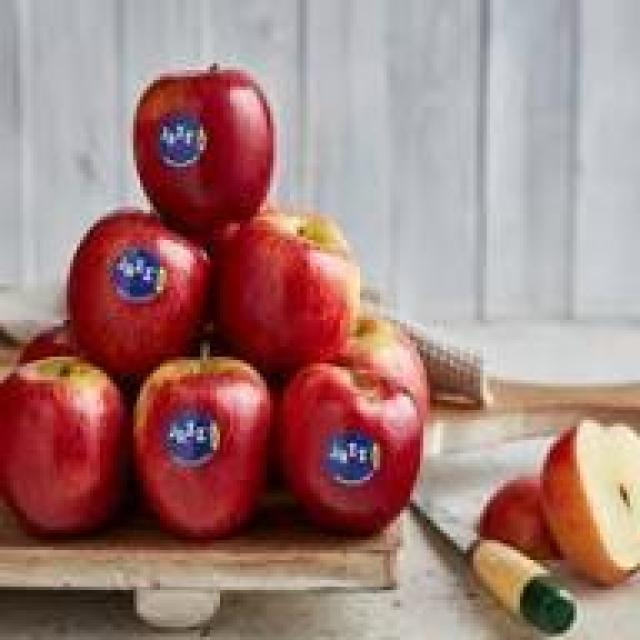apple: (273, 370, 427, 527), (133, 74, 280, 224), (133, 366, 270, 526), (64, 213, 214, 350), (536, 404, 636, 584), (230, 227, 363, 353)
